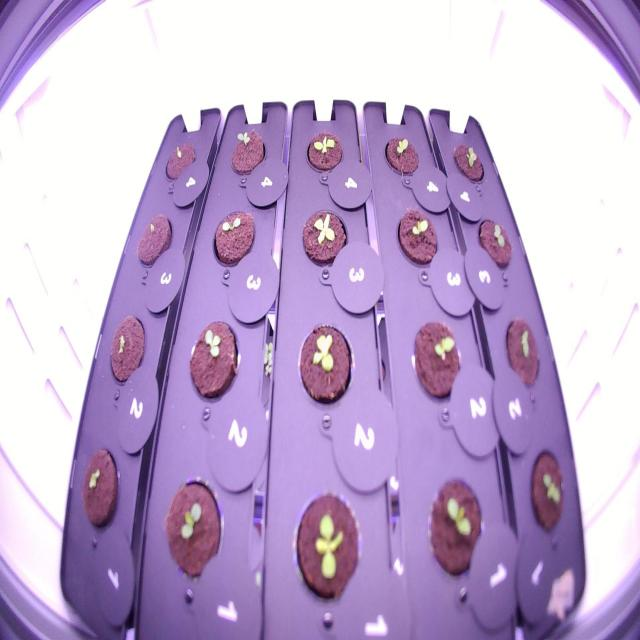germination: (158, 469, 228, 593), (423, 470, 487, 587), (184, 311, 244, 407), (407, 315, 467, 411), (524, 441, 569, 546), (77, 441, 123, 539), (105, 308, 150, 396), (207, 201, 260, 274), (500, 312, 544, 395), (394, 202, 441, 275), (225, 120, 269, 188), (472, 209, 516, 277), (132, 209, 176, 274), (379, 129, 423, 180), (449, 136, 488, 188), (161, 137, 199, 190)
young: (284, 482, 365, 613), (293, 316, 357, 416), (297, 198, 351, 282), (302, 125, 346, 182)
